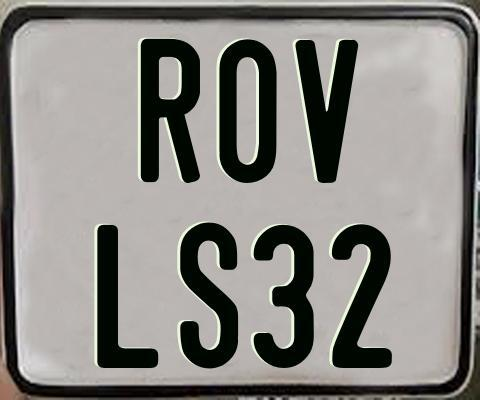0: (218, 38, 276, 185)
2: (332, 222, 395, 372)
3: (251, 223, 311, 371)
L: (95, 222, 159, 368)
R: (140, 37, 204, 184)
S: (179, 220, 242, 373)
V: (293, 37, 357, 183)
